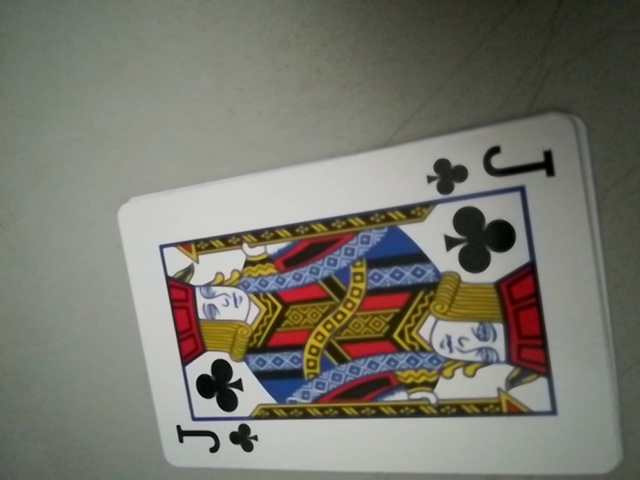mh j: (422, 135, 558, 199), (169, 415, 258, 465)
